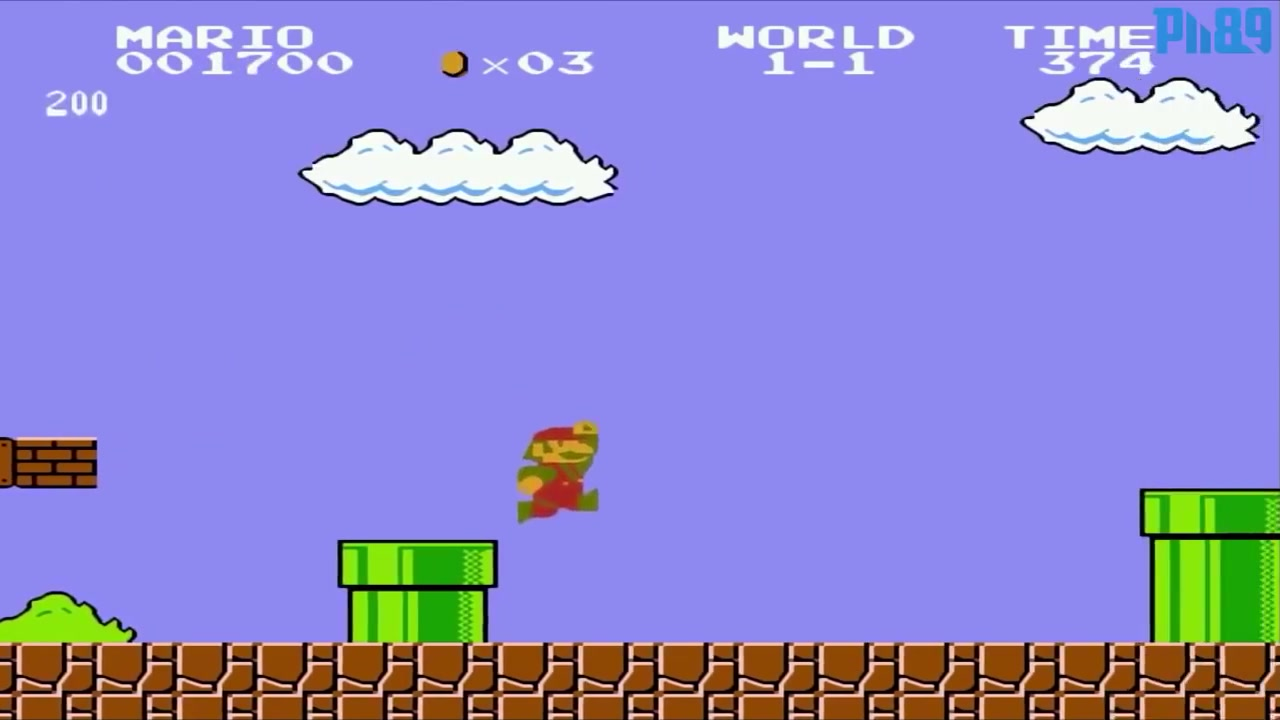mario: (504, 416, 613, 531)
